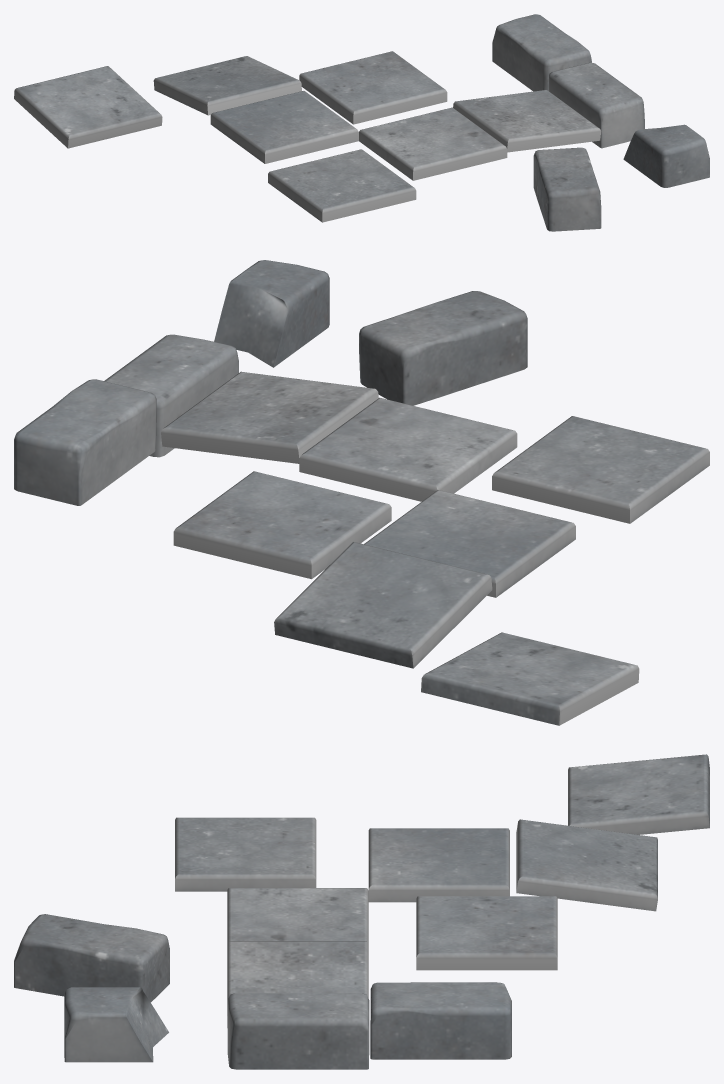
The model's file is road_pile01.fbx.
3 renders of one model, top to bottom at view 1: azimuth 30°, elevation 25°; view 2: azimuth 150°, elevation 25°; view 3: azimuth 270°, elevation 25°, orthographic. The views are drawn at different scales.
Parts seen in each view (by area): view 1: road_pile01; view 2: road_pile01; view 3: road_pile01.
Boxes of the visible parts, left/top/right/bottom form: road_pile01: left=14, top=14, right=709, bottom=231; road_pile01: left=14, top=260, right=709, bottom=725; road_pile01: left=14, top=754, right=709, bottom=1069.
Bounding box in the file's own units: 9.55 × 0.9379 × 9.85.
